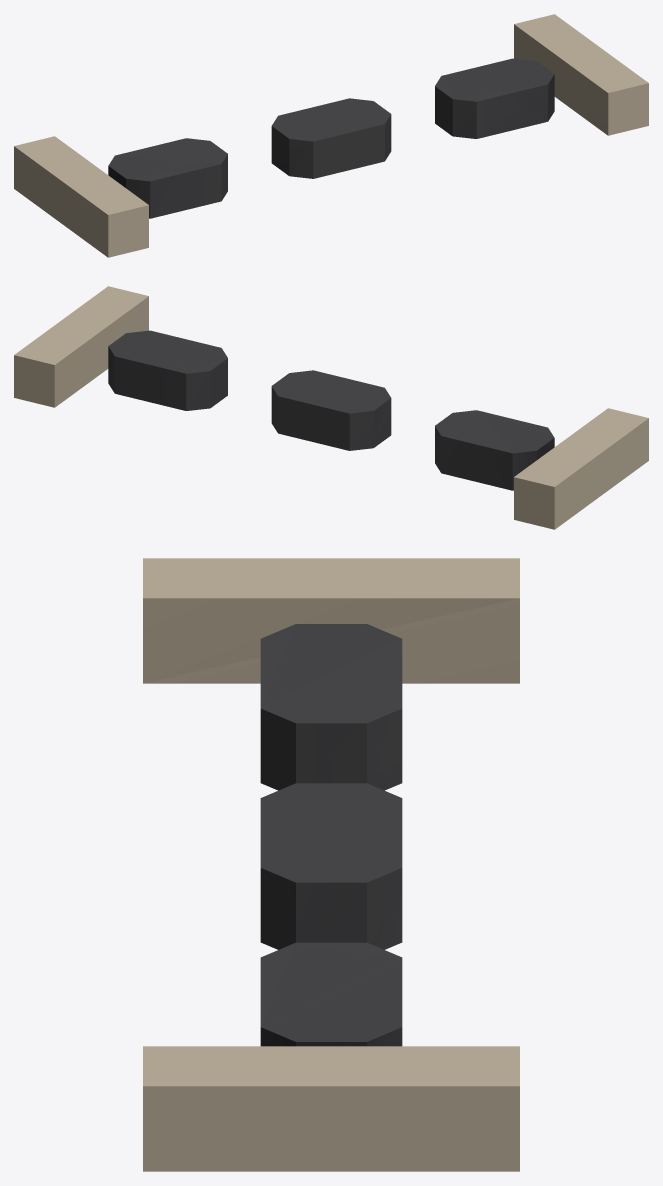
The model's file is rome_stepping.glb.
3 renders of one model, top to bottom at view 1: azimuth 30°, elevation 25°; view 2: azimuth 150°, elevation 25°; view 3: azimuth 270°, elevation 25°, orthographic. The views are drawn at different scales.
Parts seen in each view (by area): view 1: rome_stepping; view 2: rome_stepping; view 3: rome_stepping.
Boxes of the visible parts, x1=… form: rome_stepping: x1=14, y1=14, x2=648, y2=257; rome_stepping: x1=14, y1=286, x2=648, y2=529; rome_stepping: x1=143, y1=558, x2=519, y2=1171.
Bounding box in the file's own units: 5.3 × 0.4 × 1.6.
